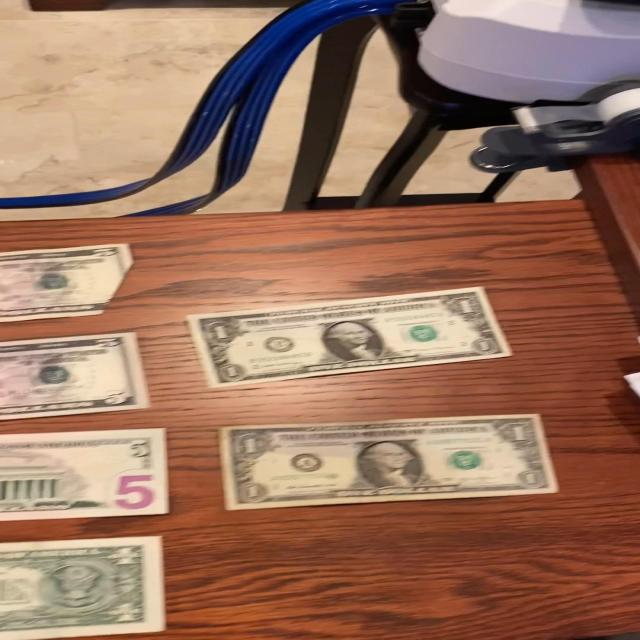1-Back: (0, 535, 172, 640)
1-Front: (216, 412, 561, 513), (185, 286, 514, 390)
5-Back: (0, 427, 171, 525)
5-Front: (0, 331, 149, 423), (0, 240, 135, 324)
